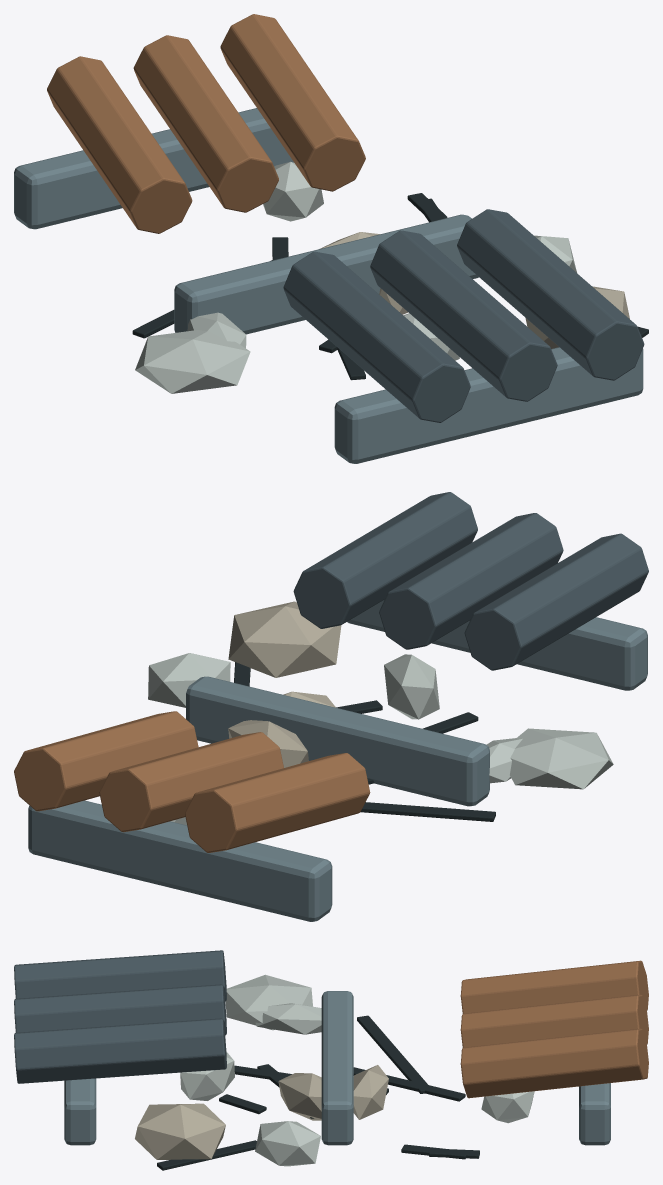
Rendered from utility_conduit_d2.glb.
The picture shows the model from 3 angles, top to bottom: view 1: azimuth 30°, elevation 25°; view 2: azimuth 150°, elevation 25°; view 3: azimuth 270°, elevation 25°; orthographic projection. The views are drawn at different scales.
Parts seen in each view (by area): view 1: Severed service pipe.001, Severed service pipe.002, Severed service pipe, Duct saddle.006, Bent pipe.001, Bent pipe, Bent pipe.002, Duct saddle.007, Duct saddle.008, Bounded fractured debris.293, Bounded fractured debris.287, Bounded fractured debris.288 (+2 smaller); view 2: Duct saddle.008, Duct saddle.007, Severed service pipe, Severed service pipe.002, Severed service pipe.001, Bent pipe, Bent pipe.002, Bent pipe.001, Duct saddle.006, Bounded fractured debris.292, Bounded fractured debris.293, Bounded fractured debris.290 (+4 smaller); view 3: Severed service pipe.002, Bent pipe.002, Severed service pipe, Severed service pipe.001, Bent pipe.001, Bent pipe, Duct saddle.007, Bounded fractured debris.292, Bounded fractured debris.293, Bounded fractured debris.291, Duct saddle.006, Duct saddle.008 (+12 smaller).
Boxes of the visible parts, x1,y1,x2,y2 form: Severed service pipe.001: [370, 230, 557, 401]; Severed service pipe.002: [457, 209, 644, 380]; Severed service pipe: [283, 251, 470, 422]; Duct saddle.006: [334, 347, 643, 463]; Bent pipe.001: [133, 35, 278, 212]; Bent pipe: [47, 56, 192, 233]; Bent pipe.002: [220, 14, 365, 191]; Duct saddle.007: [174, 214, 478, 334]; Duct saddle.008: [14, 108, 293, 229]; Bounded fractured debris.293: [135, 330, 250, 393]; Bounded fractured debris.287: [263, 161, 323, 221]; Bounded fractured debris.288: [187, 312, 246, 348]; Duct saddle.008: [28, 800, 332, 921]; Duct saddle.007: [186, 676, 489, 806]; Severed service pipe: [464, 533, 648, 670]; Severed service pipe.002: [293, 492, 477, 628]; Severed service pipe.001: [379, 513, 563, 649]; Bent pipe: [185, 753, 370, 852]; Bent pipe.002: [14, 711, 198, 811]; Bent pipe.001: [99, 732, 283, 832]; Duct saddle.006: [347, 599, 647, 690]; Bounded fractured debris.292: [228, 601, 341, 677]; Bounded fractured debris.293: [510, 728, 613, 789]; Bounded fractured debris.290: [384, 654, 439, 719]; Severed service pipe.002: [14, 1018, 226, 1083]; Bent pipe.002: [460, 1028, 648, 1098]; Severed service pipe: [14, 950, 226, 1001]; Severed service pipe.001: [14, 984, 226, 1035]; Bent pipe.001: [460, 994, 648, 1047]; Bent pipe: [460, 960, 648, 1013]; Duct saddle.007: [321, 991, 353, 1145]; Bounded fractured debris.292: [135, 1103, 225, 1159]; Bounded fractured debris.293: [225, 974, 312, 1030]; Bounded fractured debris.291: [255, 1121, 320, 1166]; Duct saddle.006: [64, 1078, 96, 1145]; Duct saddle.008: [579, 1083, 610, 1145].
Bounding box in the file's own units: 2.57 × 0.7848 × 3.95.
